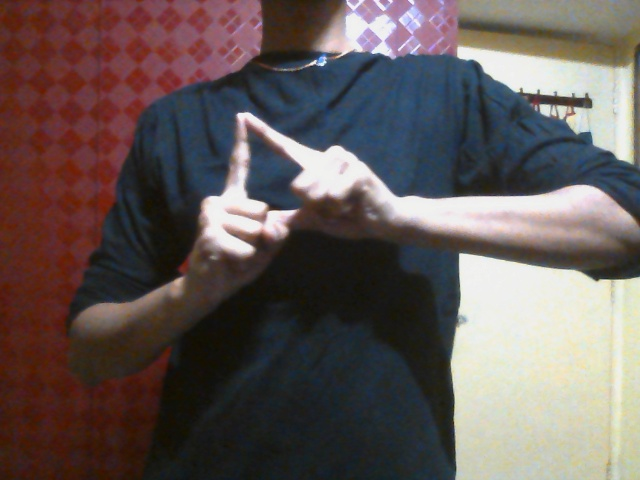D: (181, 109, 399, 309)
